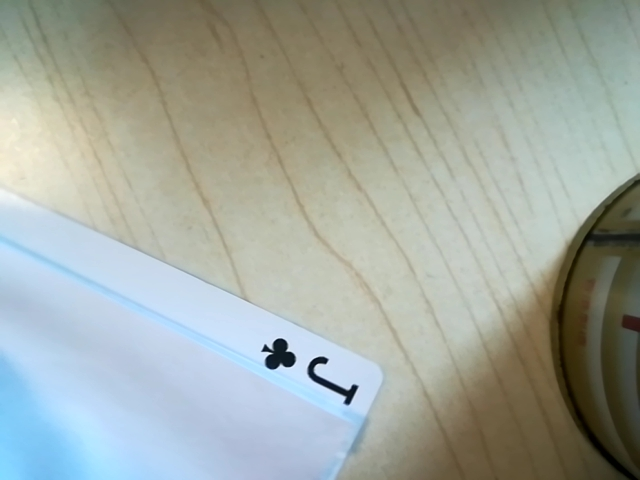mh j: (243, 332, 384, 412)
